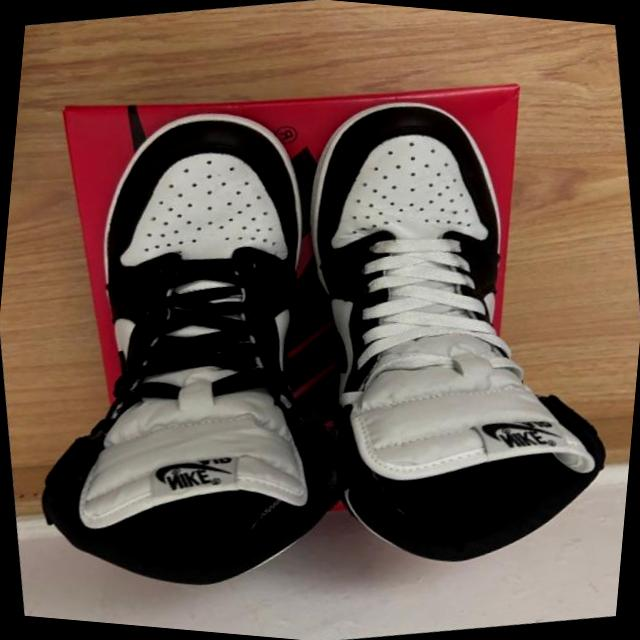nike_original_jordan: (255, 62, 640, 597), (0, 77, 379, 620)
